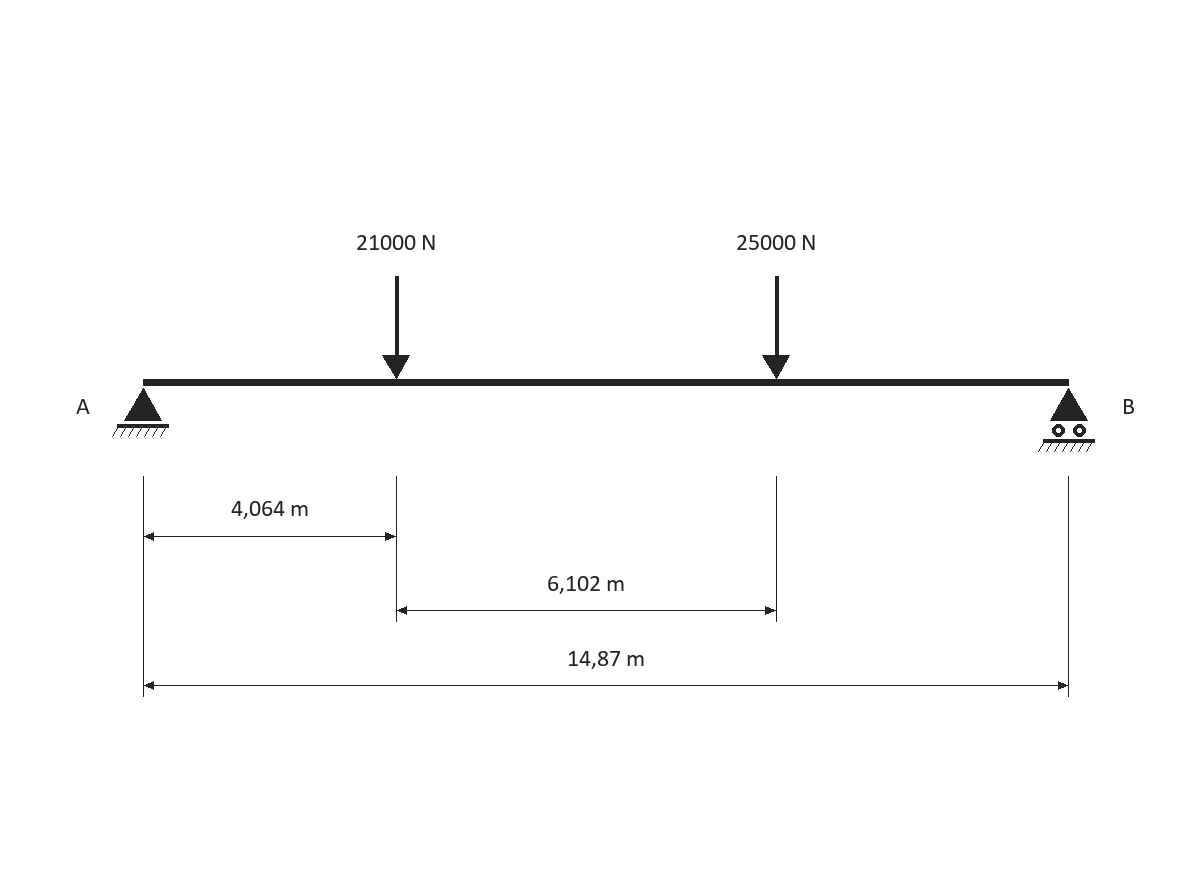pin_support: (112, 388, 169, 437)
point_load: (382, 276, 410, 379), (762, 276, 790, 379)
roller_support: (1038, 388, 1095, 452)
